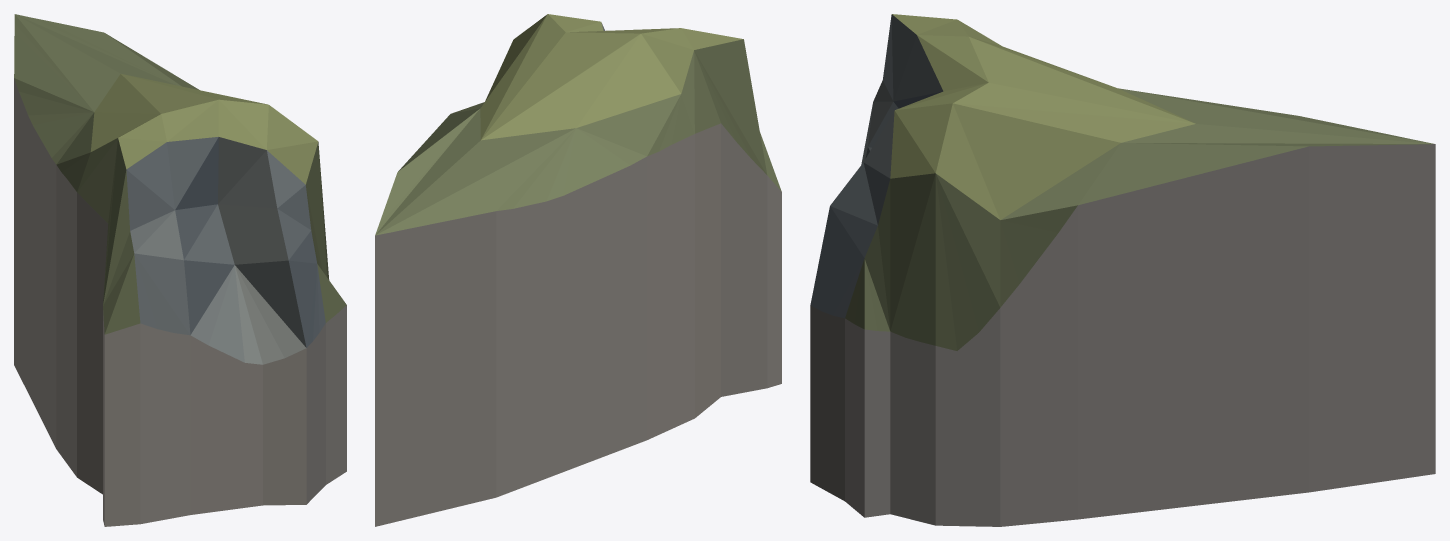
Rendered from cliff_central_wall.glb.
3 views of the same model, side by side, from view 1: azimuth 30°, elevation 25°; view 2: azimuth 150°, elevation 25°; view 3: azimuth 270°, elevation 25° (orthographic). The views are drawn at different scales.
Visible parts, largest first — view 1: cliff_central_wall; view 2: cliff_central_wall; view 3: cliff_central_wall.
Part boxes in pixels (x1,y1,x2,y2): cliff_central_wall: [14, 14, 346, 526]; cliff_central_wall: [375, 14, 781, 526]; cliff_central_wall: [810, 14, 1435, 526].
Bounding box in the file's own units: 51.4 × 68.9 × 96.56.
